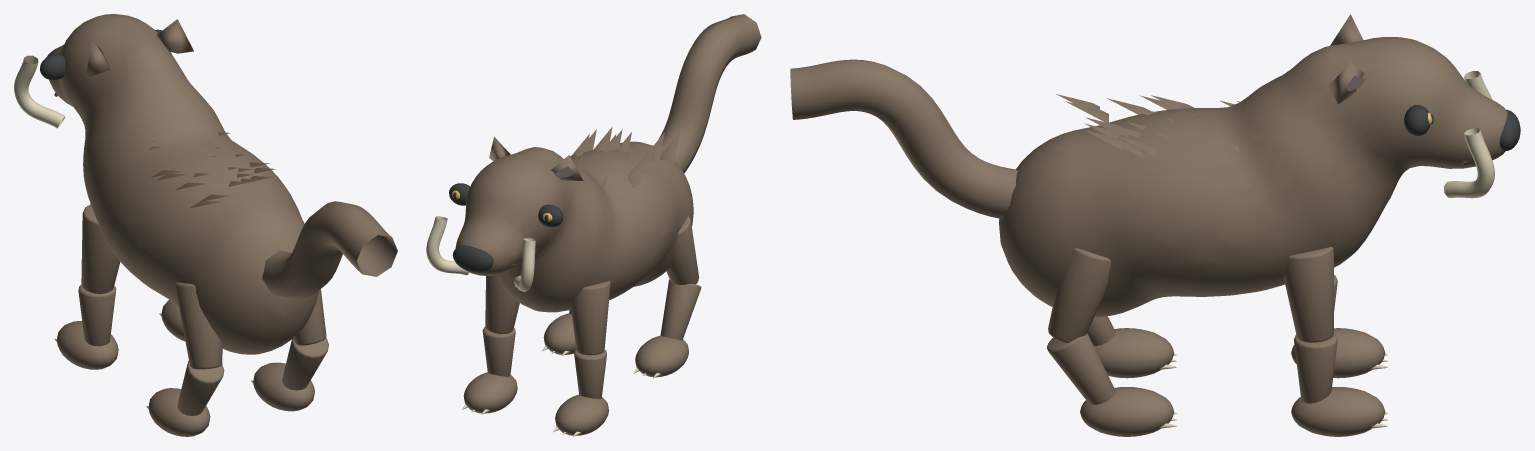
File: bristleback.glb
3 renders of one model, left to right at view 1: azimuth 30°, elevation 25°; view 2: azimuth 150°, elevation 25°; view 3: azimuth 270°, elevation 25°, orthographic. The views are drawn at different scales.
Parts seen in each view (by area): view 1: Sculpted anatomy, Flowing tail, Upper leg.001, Upper leg, Paw.001, Paw.003, Paw, Lower leg, Lower leg.001, Lower leg.003, Ivory tusk, Upper leg.003 (+4 smaller); view 2: Sculpted anatomy, Flowing tail, Upper leg, Paw.001, Paw.002, Paw, Lower leg.001, Upper leg.002, Upper leg.001, Lower leg, Lower leg.002, Paw.003 (+5 smaller); view 3: Sculpted anatomy, Flowing tail, Upper leg.002, Upper leg.003, Paw.003, Paw.002, Paw.001, Lower leg.003, Lower leg.002, Paw, Ivory tusk.001, Pointed ear.001.
Part boxes in pixels (x1,y1,x2,y2): Sculpted anatomy: [49, 14, 318, 354]; Flowing tail: [262, 201, 397, 299]; Upper leg.001: [175, 282, 222, 369]; Upper leg: [81, 204, 120, 293]; Paw.001: [148, 388, 210, 436]; Paw.003: [253, 362, 314, 411]; Paw: [56, 321, 118, 369]; Lower leg: [78, 284, 116, 346]; Lower leg.001: [177, 360, 224, 415]; Lower leg.003: [282, 337, 328, 390]; Ivory tusk: [14, 55, 65, 128]; Upper leg.003: [293, 289, 326, 345]; Sculpted anatomy: [455, 141, 693, 312]; Flowing tail: [658, 14, 761, 173]; Upper leg: [571, 280, 610, 355]; Paw.001: [635, 335, 688, 377]; Paw.002: [463, 372, 517, 413]; Paw: [555, 394, 608, 435]; Lower leg.001: [660, 279, 701, 340]; Upper leg.002: [485, 275, 519, 333]; Upper leg.001: [666, 216, 698, 284]; Lower leg: [574, 349, 606, 398]; Lower leg.002: [482, 326, 515, 376]; Paw.003: [543, 313, 575, 354]; Sculpted anatomy: [999, 37, 1507, 316]; Flowing tail: [790, 59, 1017, 218]; Upper leg.002: [1284, 247, 1333, 342]; Upper leg.003: [1048, 248, 1110, 342]; Paw.003: [1080, 387, 1173, 436]; Paw.002: [1291, 387, 1385, 436]; Paw.001: [1094, 328, 1174, 378]; Lower leg.003: [1047, 333, 1115, 404]; Lower leg.002: [1294, 333, 1337, 403]; Paw: [1291, 328, 1385, 378]; Ivory tusk.001: [1444, 128, 1494, 198]; Pointed ear.001: [1328, 62, 1364, 104].
Bounding box in the file's own units: 0.818 × 1.62 × 2.94.
